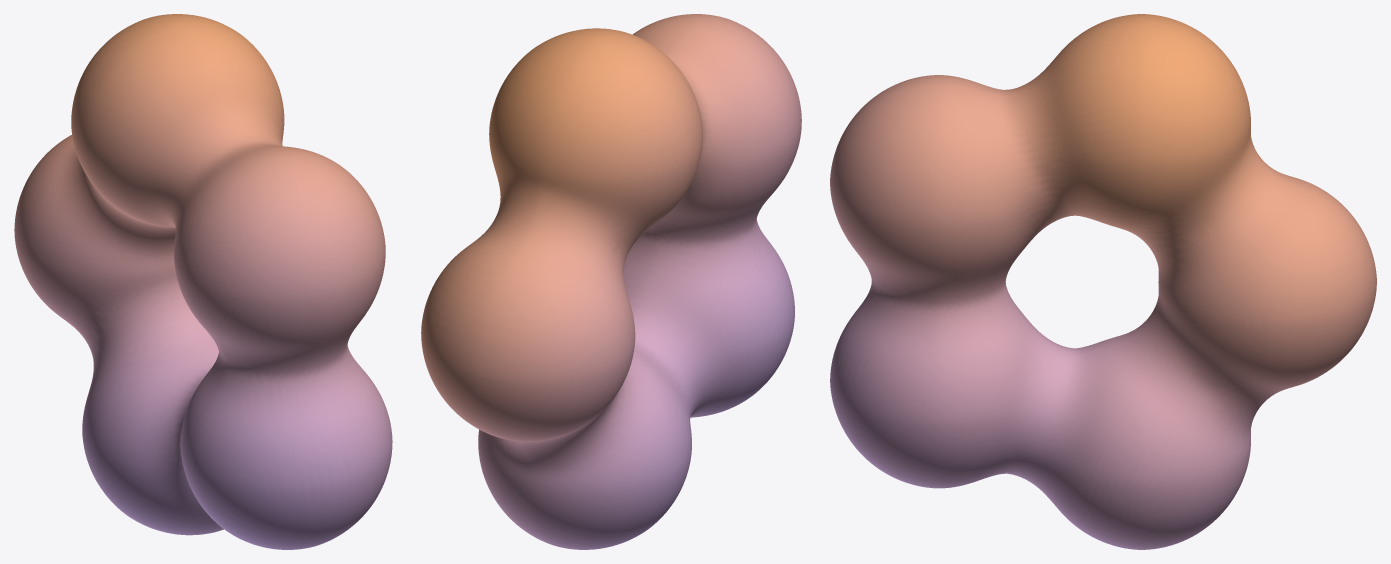
File: 07_munchkin_static.glb
3 renders of one model, left to right at view 1: azimuth 30°, elevation 25°; view 2: azimuth 150°, elevation 25°; view 3: azimuth 270°, elevation 25°, orthographic.
Parts seen in each view (by area): view 1: 07_munchkin.2_remesh; view 2: 07_munchkin.2_remesh; view 3: 07_munchkin.2_remesh.
Boxes of the visible parts, box(x1,y1,x2,y2) form: 07_munchkin.2_remesh: box(14, 14, 392, 549); 07_munchkin.2_remesh: box(421, 14, 801, 549); 07_munchkin.2_remesh: box(830, 14, 1376, 549).
Bounding box in the file's own units: 0.0538 × 0.1316 × 0.1275.
1 material, 1 textured.
